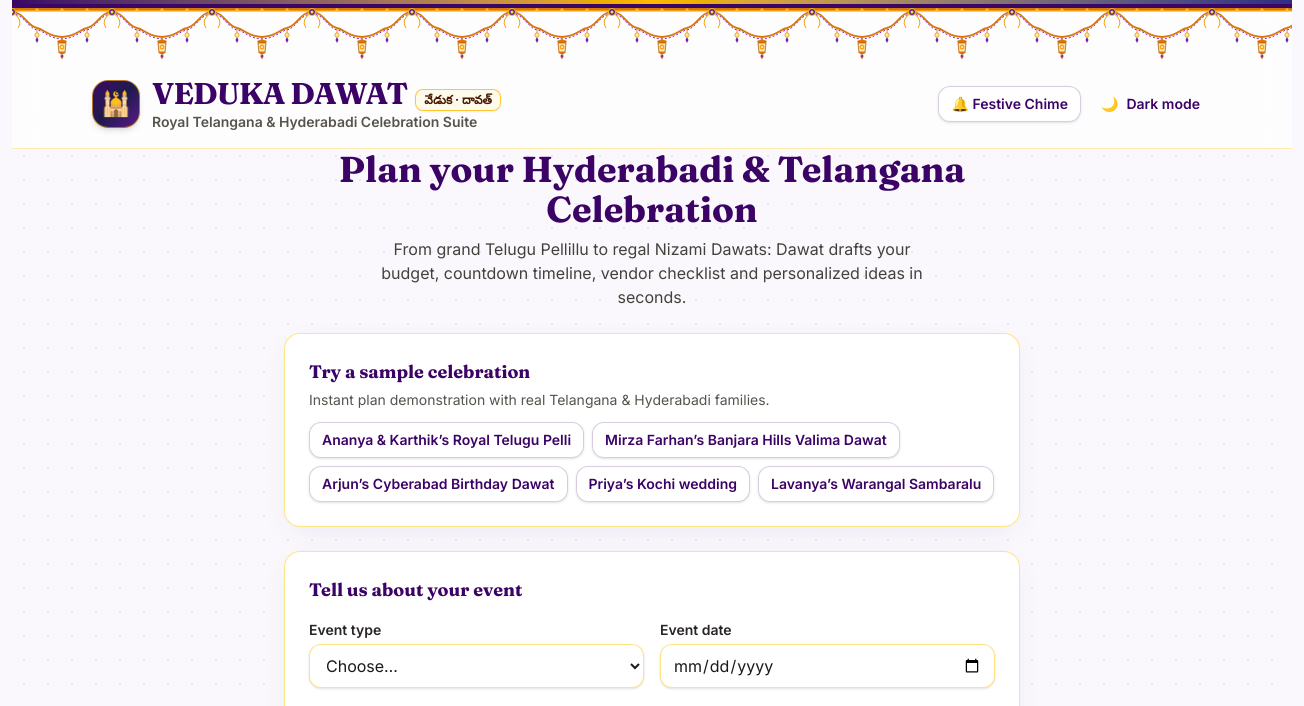
Scenario: App (offline judge path) › asks before starting a new plan
Click the button "Arjun’s Cyberabad Birthday Dawat": (438, 484) top-left (309, 466), bottom-right (568, 502)
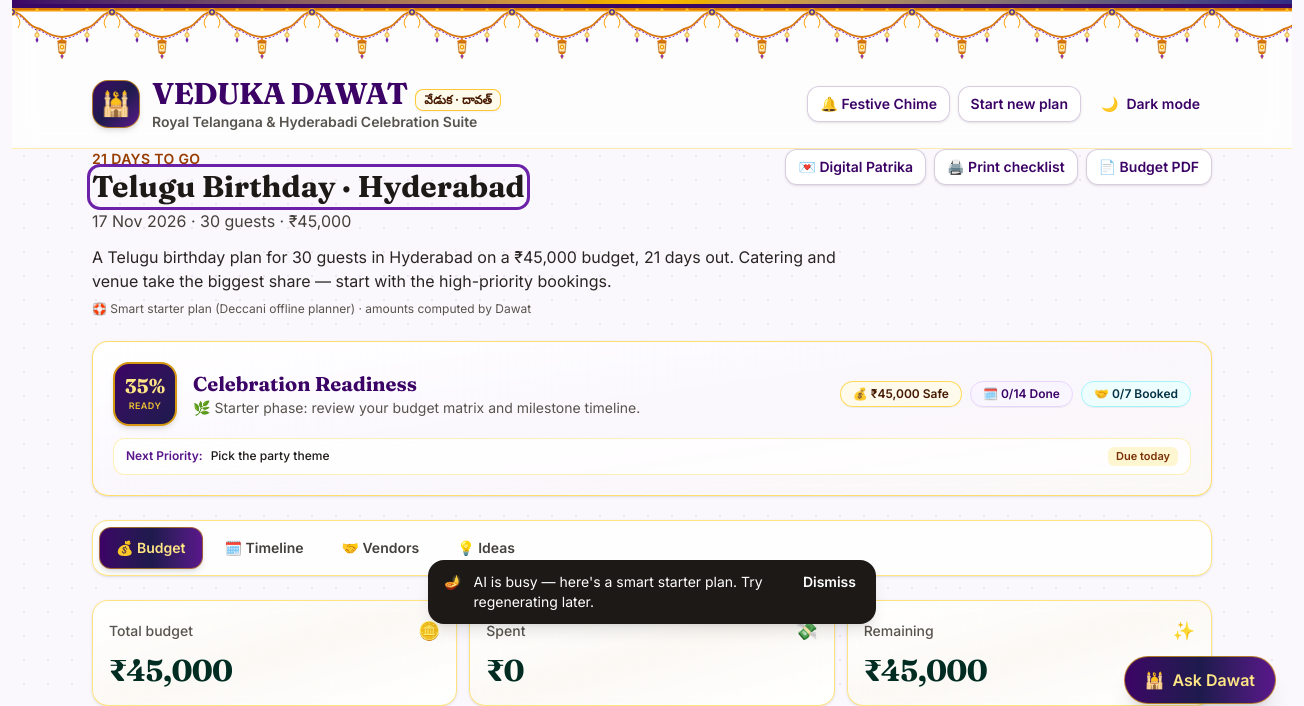
Click the button "Start new plan": (1019, 104) top-left (958, 86), bottom-right (1081, 122)
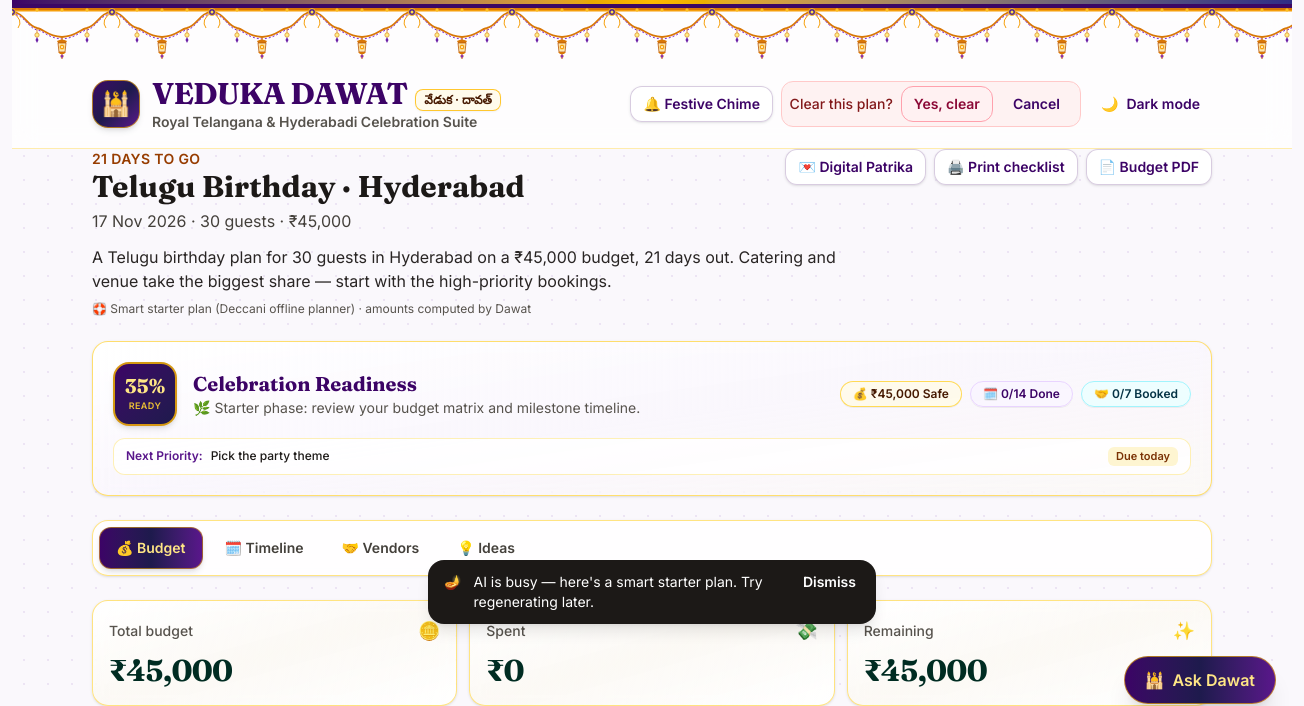
Click the button "Yes, clear": (947, 104) top-left (901, 86), bottom-right (993, 122)
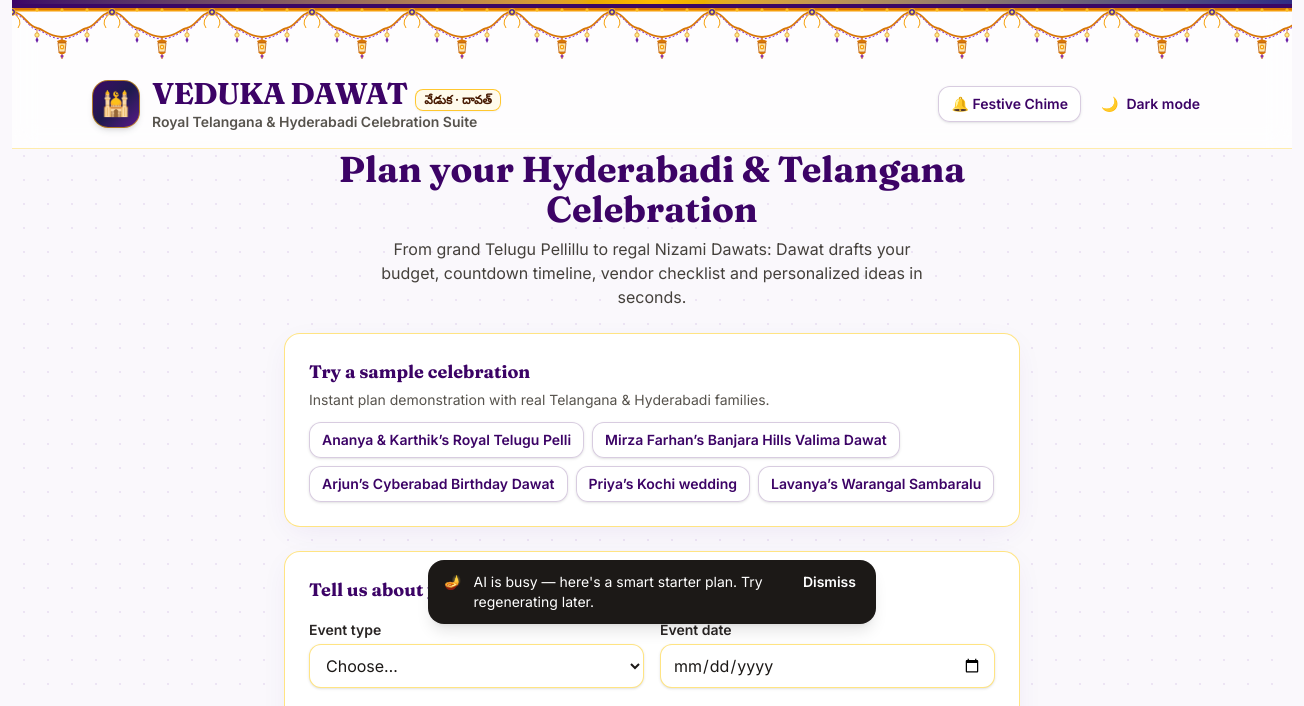
Expected: the heading "Plan your Hyderabadi & Telangana Celebration" is shown, top-left (284, 149), bottom-right (1020, 229)
